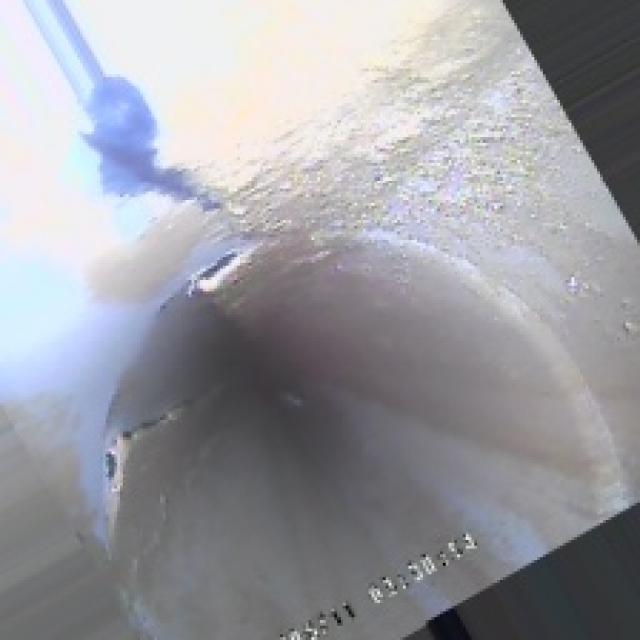pipe_surface_damage: (80, 240, 254, 551)
